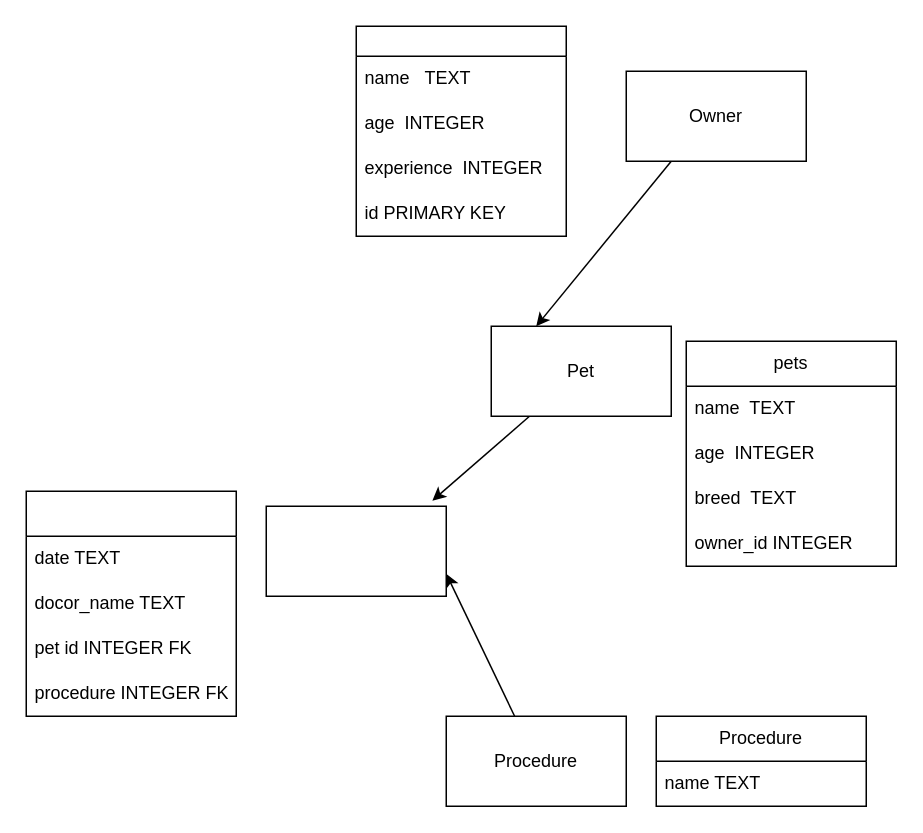
Some shapes in this 923 by 833 pixel diagram are drawn without their labels. Each missing label, with the box of its shape:
Appointment: (265, 505, 446, 596)
appointments: (25, 490, 236, 716)
owners: (355, 25, 566, 236)
